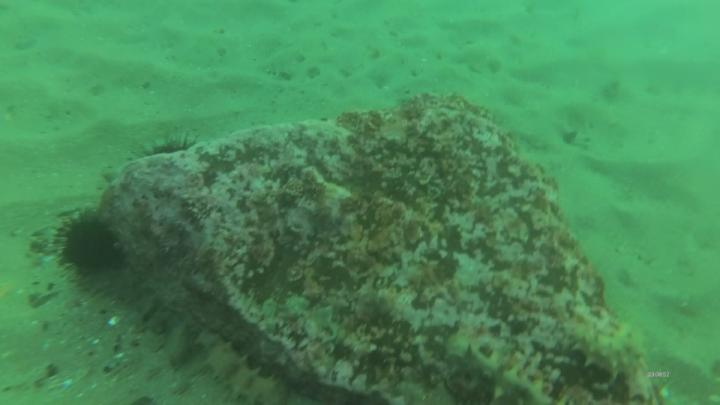echinus: (51, 211, 128, 290)
holothurian: (445, 333, 559, 405), (565, 310, 654, 385), (198, 330, 282, 405)
